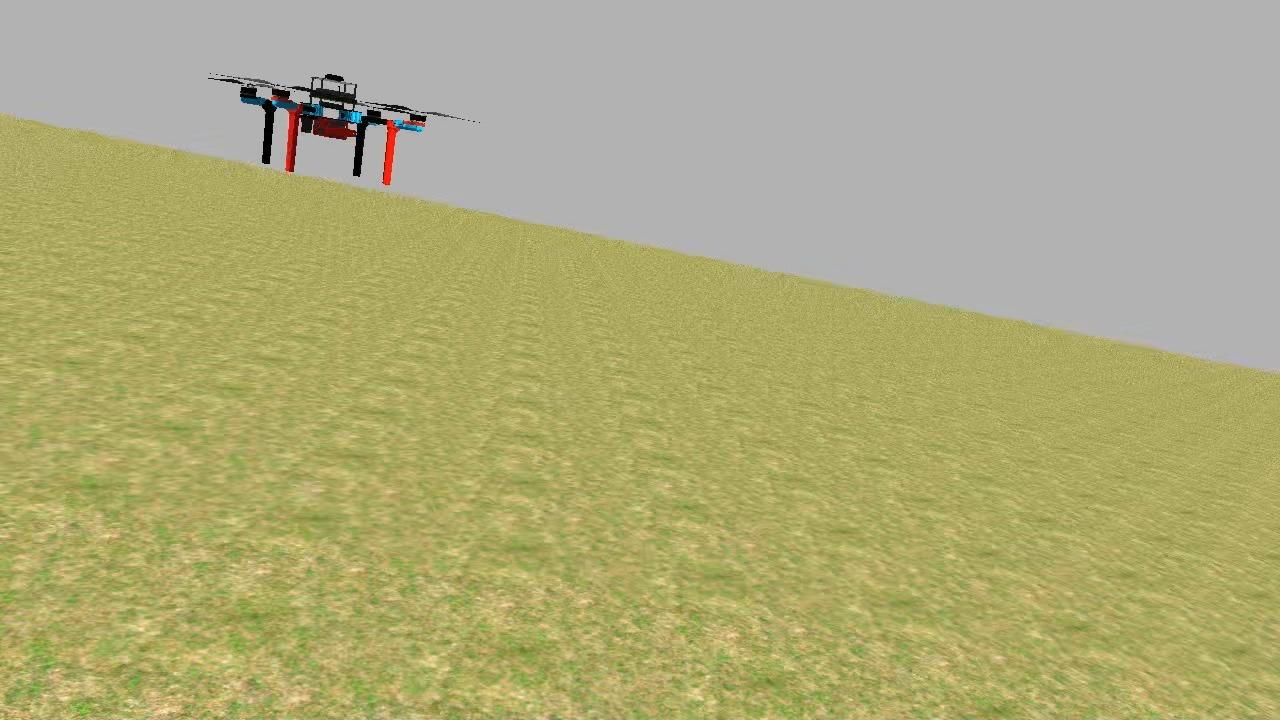UAV: (236, 66, 436, 186)
